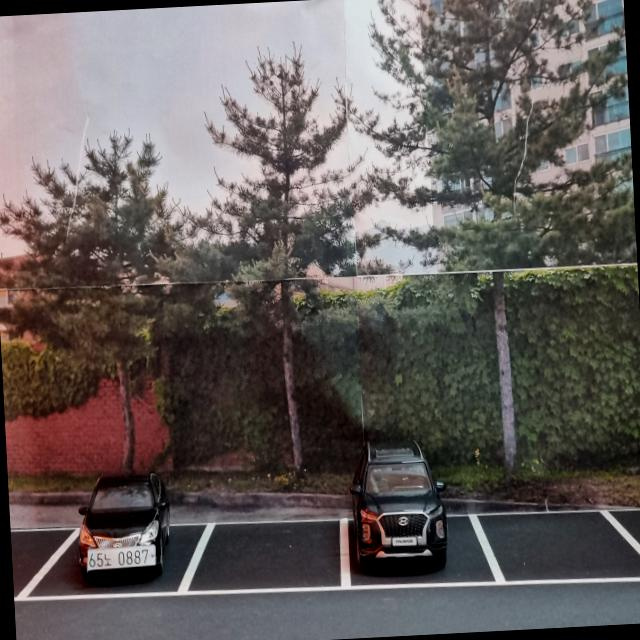car: (346, 442, 452, 580), (74, 459, 174, 586)
free: (182, 512, 355, 606), (475, 500, 640, 585)
